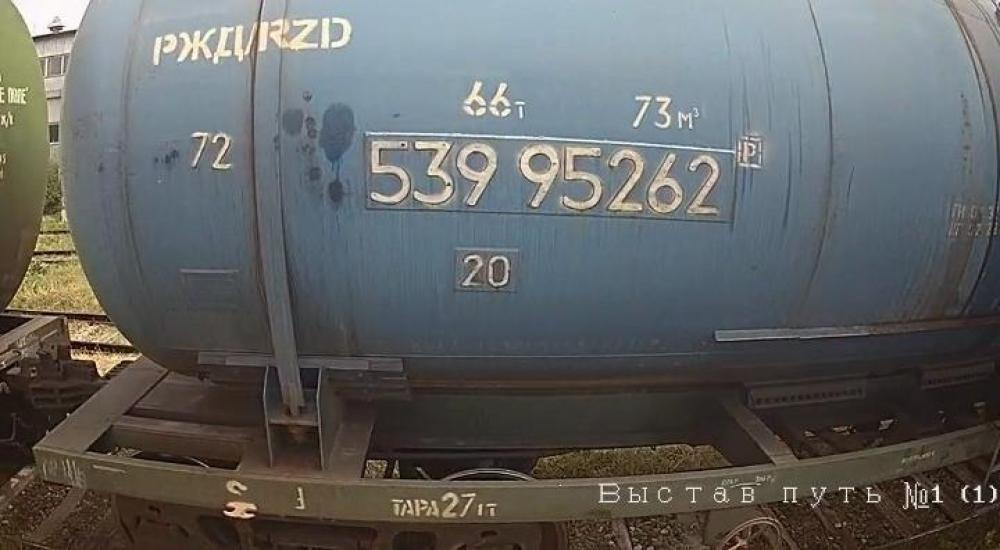Wagon-number: (363, 132, 726, 224)
